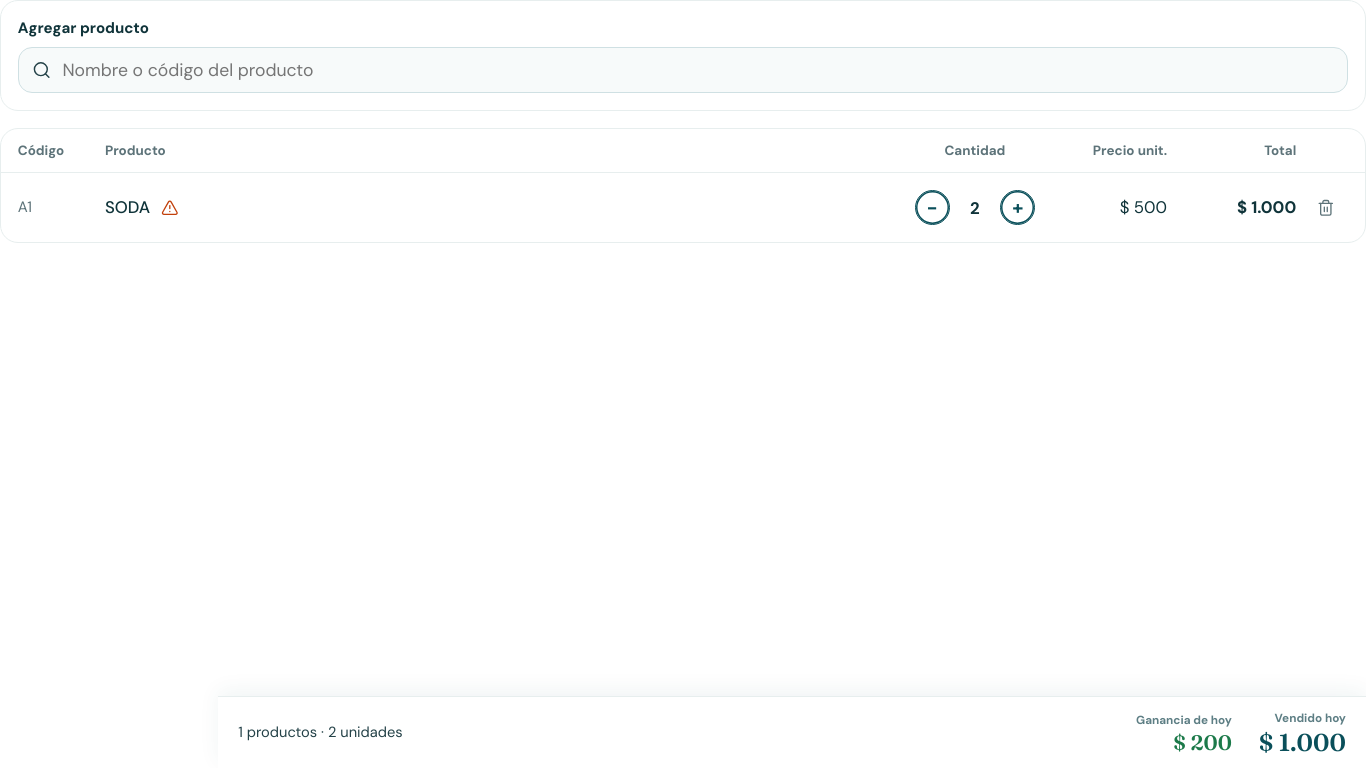
today retail screen adds, changes, and removes a product
The width and height of the screenshot is (1366, 768).
Later steps or results of the test are not shown.
Expected: the text "SODA" is shown, [105,196,179,218]
Type "ab" into the dropdown at (683, 70), box [18,47,1348,93]
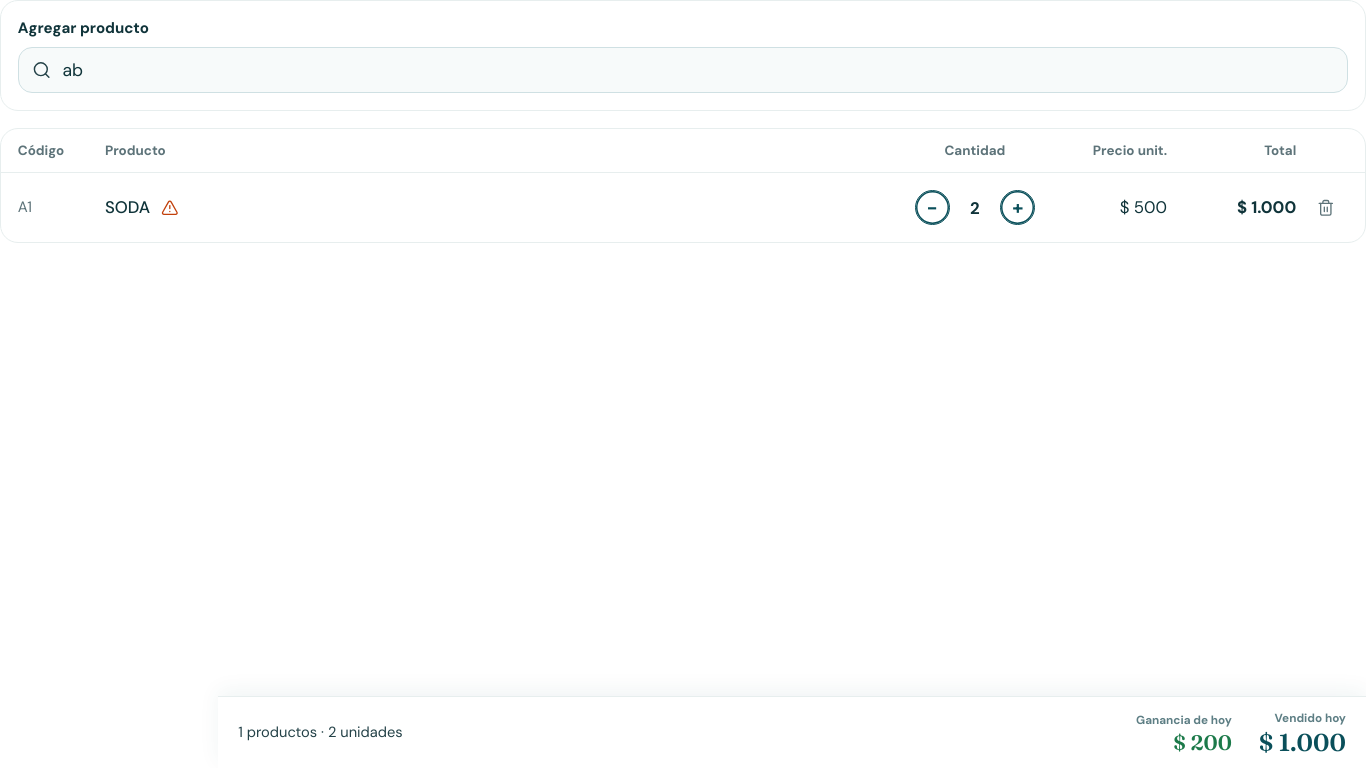
Submit the form, box [18,18,1348,93]
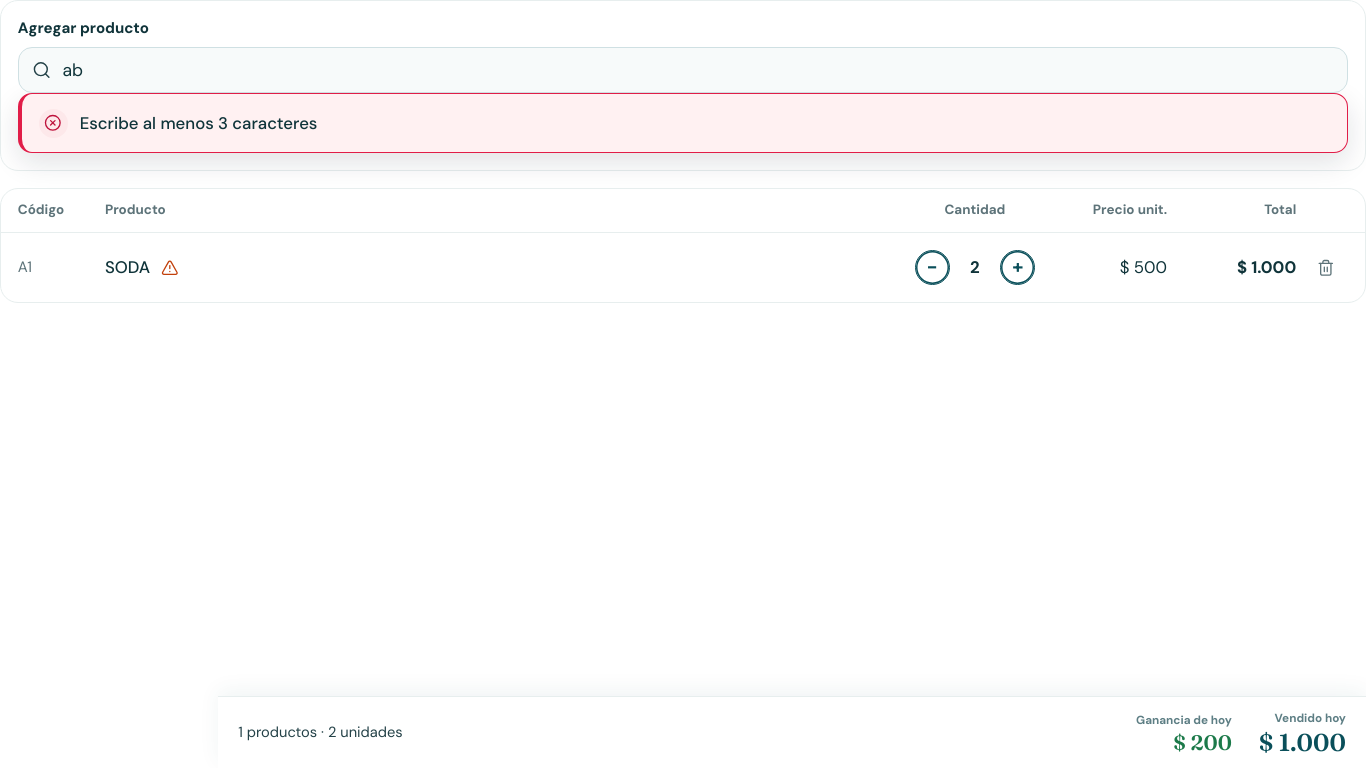
Expected: the text "Escribe al menos 3 caracteres" is shown, [80,109,317,135]
Replace the text in the dropdown with "bad" at (683, 70), box [18,47,1348,93]
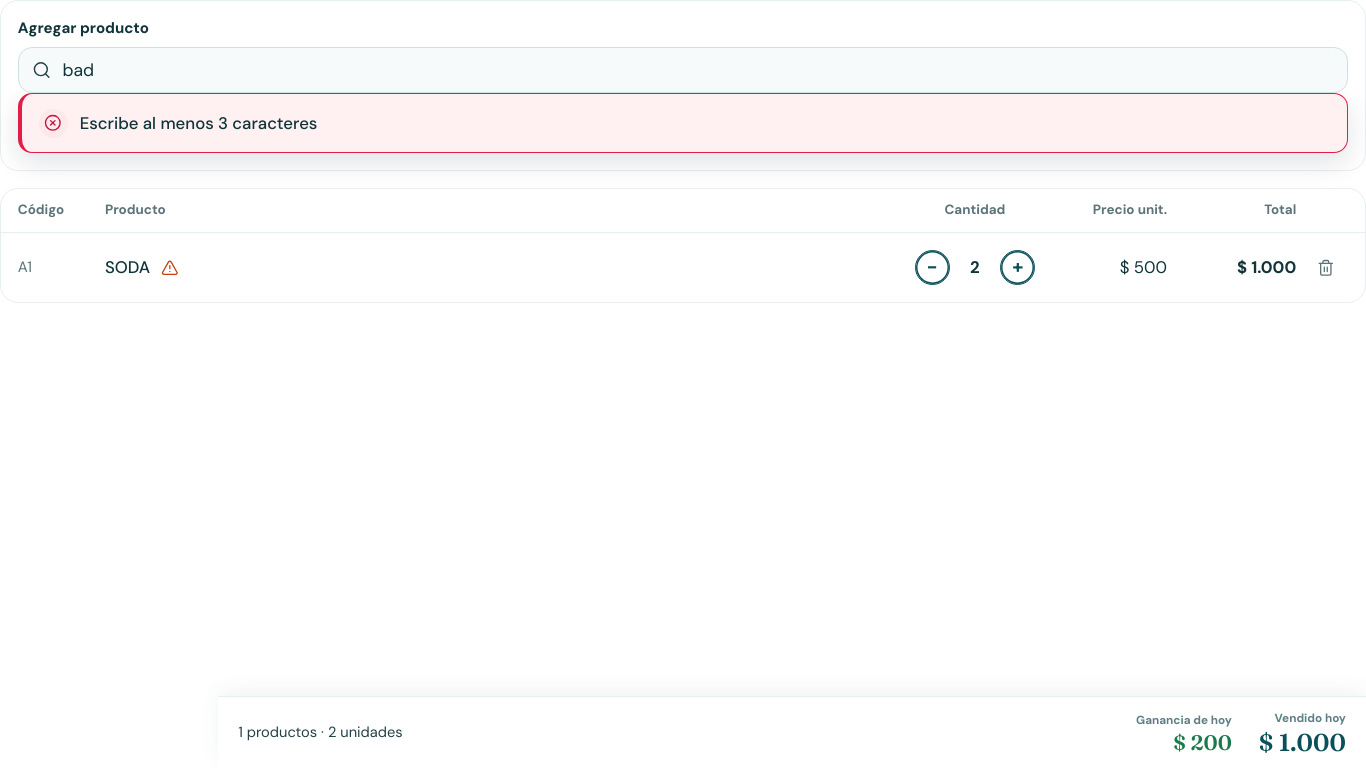
Click the button named "Buscar" at (40, 70), box [18,47,61,93]
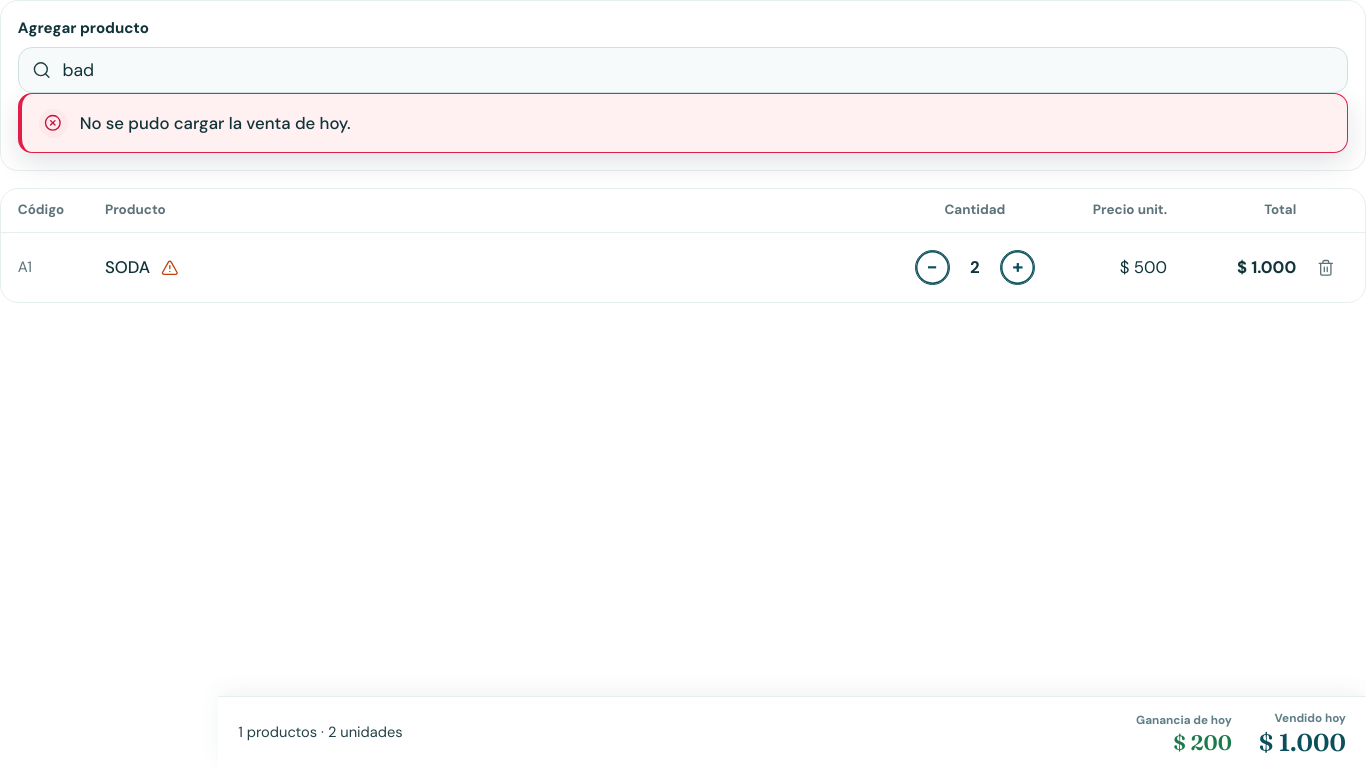
Expected: the text "No se pudo cargar la venta de hoy." is shown, [80,109,351,135]
Replace the text in the dropdown with "vac" at (683, 70), box [18,47,1348,93]
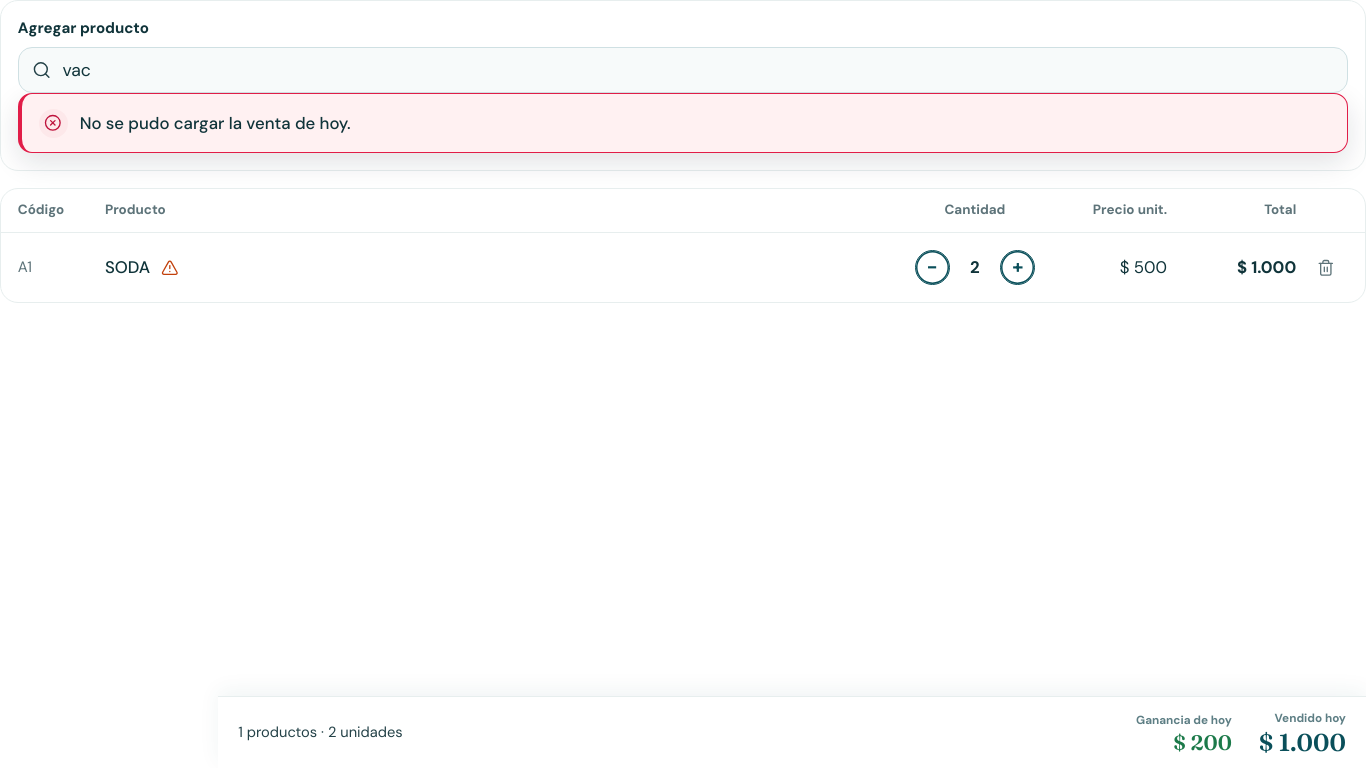
Click the button named "Buscar" at (40, 70), box [18,47,61,93]
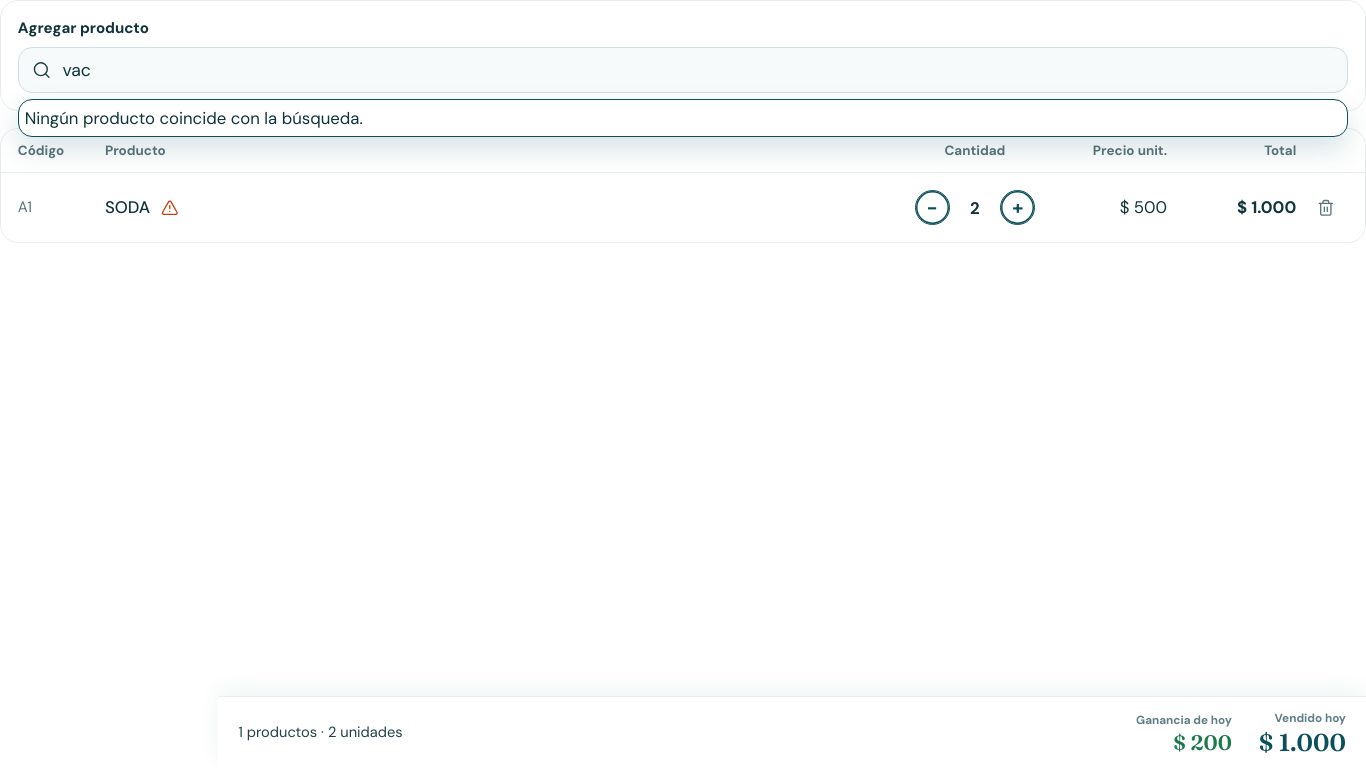
Expected: the list item "Ningún producto coincide con la búsqueda." is shown, [25,107,363,129]
